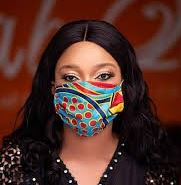with_facemask: (51, 81, 128, 139)
